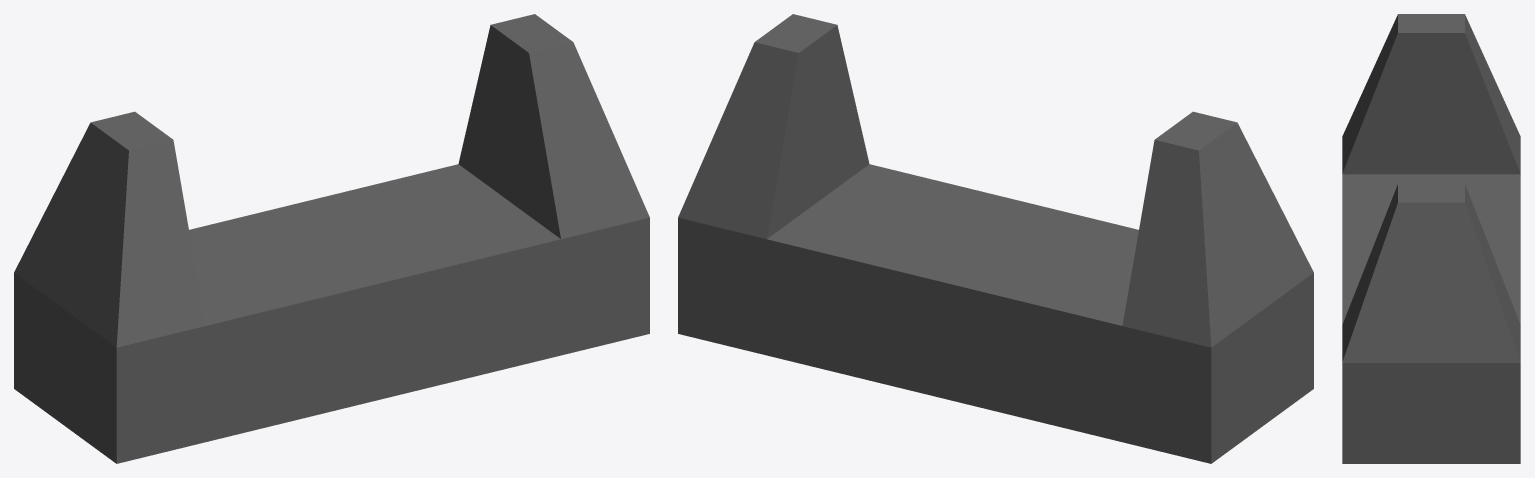
Rendered from telefork.obj.
3 renders of one model, left to right at view 1: azimuth 30°, elevation 25°; view 2: azimuth 150°, elevation 25°; view 3: azimuth 270°, elevation 25°, orthographic. The views are drawn at different scales.
Visible parts, largest first — view 1: main; view 2: main; view 3: main.
Boxes of the visible parts, box(x1,y1,x2,y2) form: main: box(14, 14, 649, 463); main: box(678, 14, 1313, 463); main: box(1342, 14, 1520, 463).
Size of the model in its own units: 1.2 by 0.6 by 0.4.
